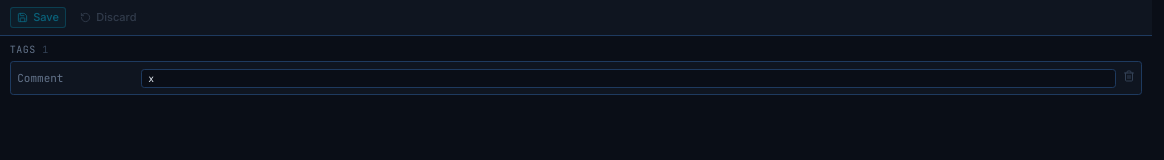
Test: saves without an undo entry › server warnings of a successful save are shown with the saved state
The image size is (1164, 160).
Replace the text in the field named "Comment" with "y" at (629, 79), box [141,69,1116,88]
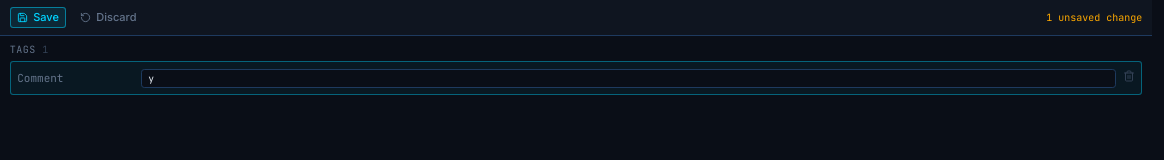
Click the button "Save" at (38, 17), box [10,6,66,28]
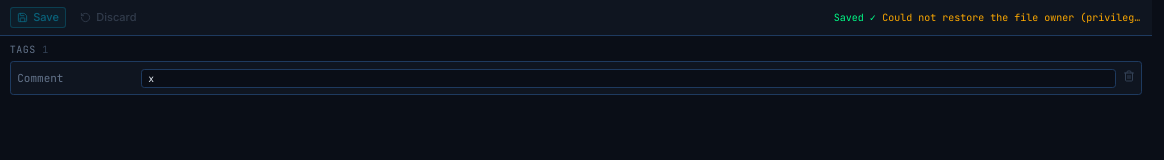
Result: the text "Saved ✓" is shown at [834,10,876,25]
